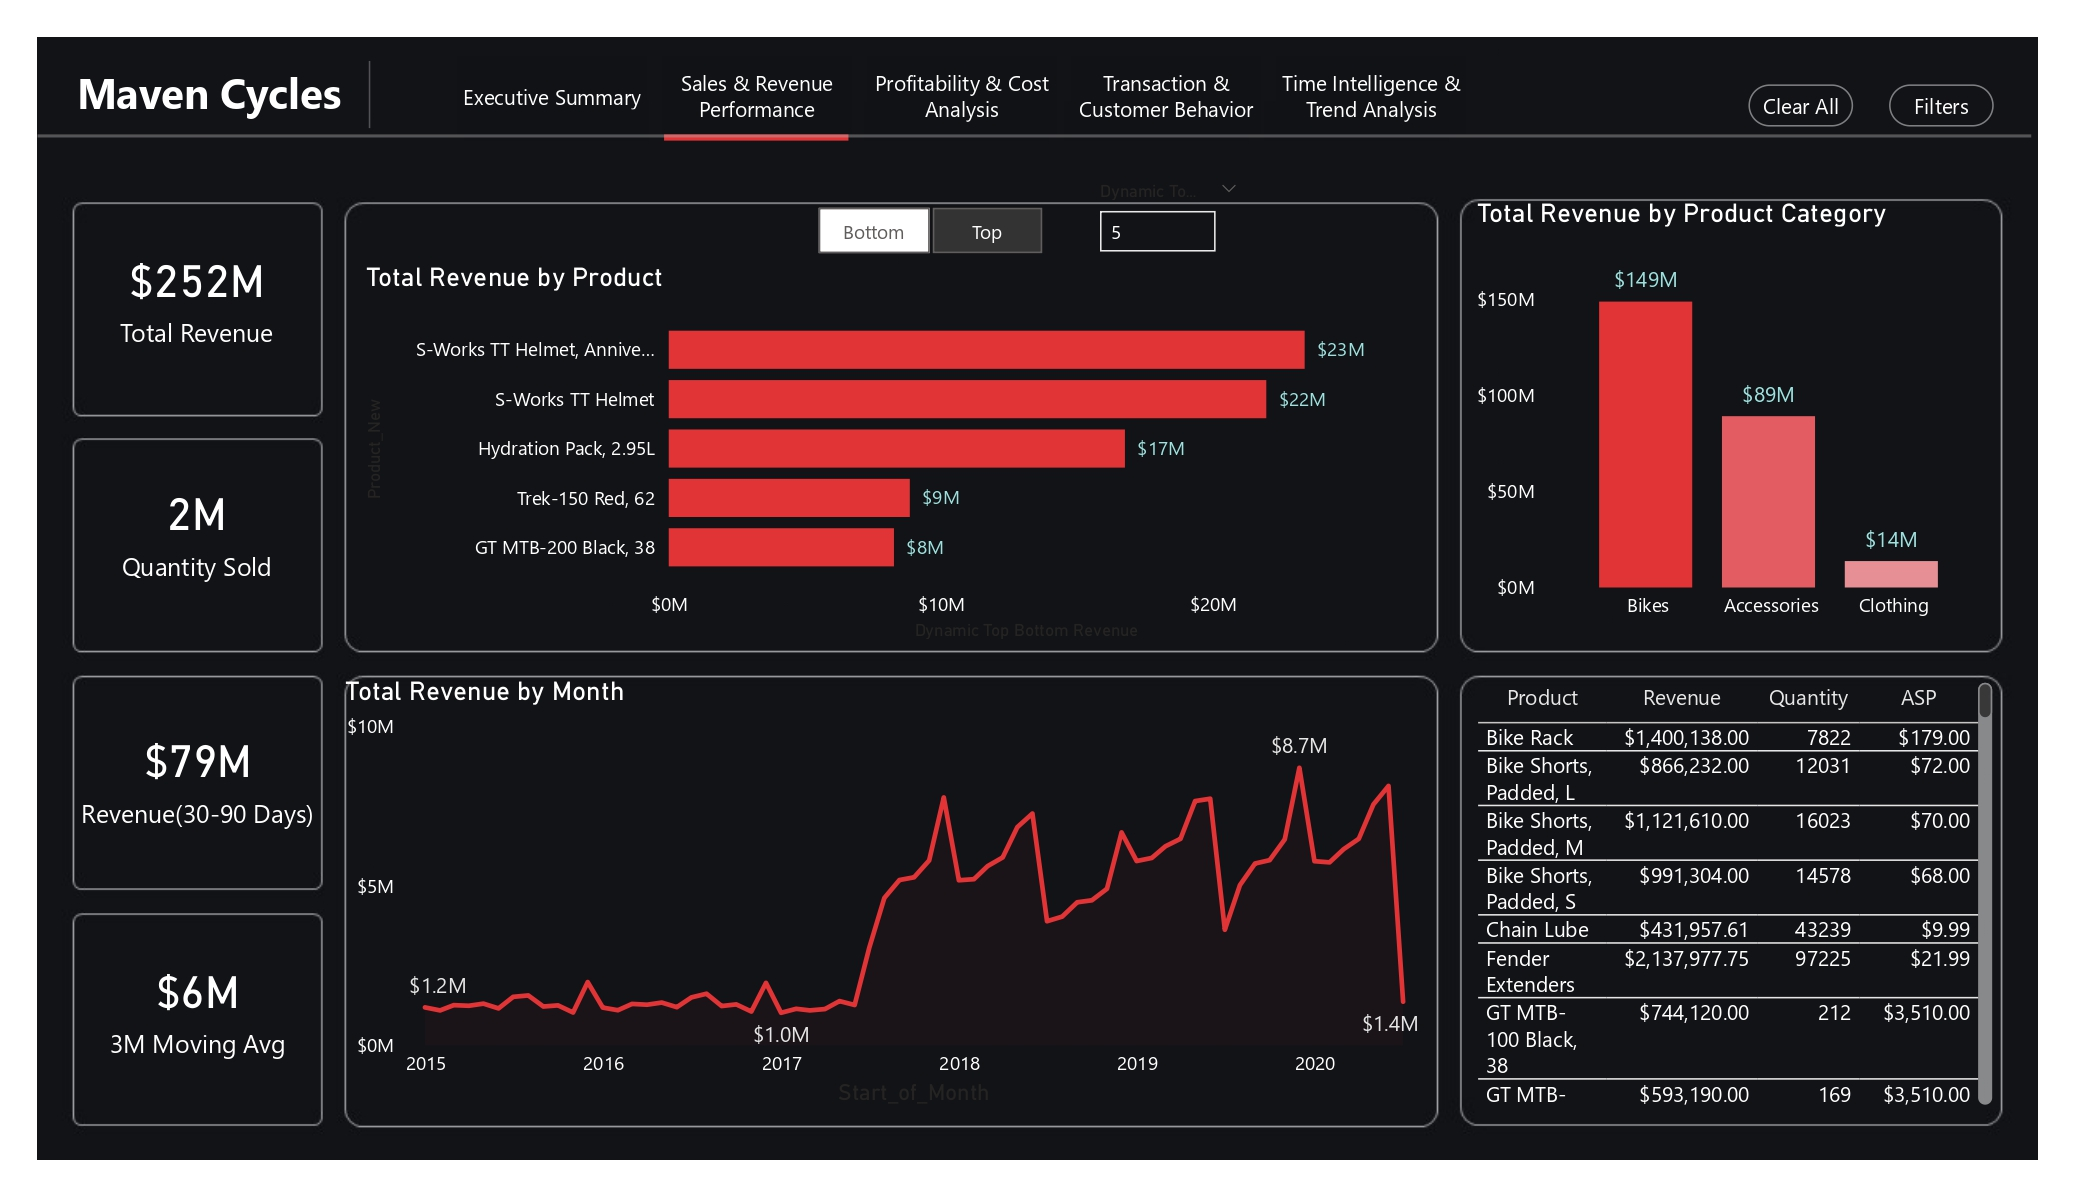

Layout of this report page (visuals, bound fields, positions):
{"tool":"powerbi","page":{"name":"Sales & Revenue Performance","canvas":[1280,720],"ordinal":1},"visuals":[{"type":"actionButton","box":[21.4,4.3,201.2,61.4],"z":0},{"type":"pageNavigator","box":[272.7,41.4,630,25],"z":0,"group":"g1"},{"type":"pageNavigator","box":[268.7,12.4,646,50.4],"z":1000,"group":"g1"},{"type":"shape","box":[191,14.9,43.3,43.3],"z":1000},{"type":"card","title":"Total Revenue","fields":{"Values":["Measure_Table.Total Revenue"]},"box":[23.2,96.5,157.3,135.9],"z":2000},{"type":"card","title":"Total Quantity Sold","fields":{"Values":["Measure_Table.Quantity Sold"]},"box":[23.2,262.8,157.3,101.9],"z":3000},{"type":"card","title":"Revenue (30-90 Days)","fields":{"Values":["Measure_Table.Revenue(inventory with 30-90 Days)"]},"box":[23.2,404,159.1,135.9],"z":4000},{"type":"card","title":"3-Month Moving Avg. Revenue","fields":{"Values":["Measure_Table.3M Moving Avg (card)"]},"box":[23.2,556,159.1,126.9],"z":5000},{"type":"clusteredColumnChart","title":"Total Revenue by Product Category","fields":{"Category":["Dim_Product_Categories.ProductCategory"],"Y":["Measure_Table.Total Revenue"]},"box":[915.6,102.2,340,280],"z":6000},{"type":"lineChart","title":"Total Revenue by Month","fields":{"Category":["DimCalendar.Start_of_Month"],"Y":["Measure_Table.Total Revenue"]},"box":[191.8,408.2,700,279.6],"z":7000},{"type":"clusteredBarChart","title":"Total Revenue by Product","fields":{"Category":["Dim_Products.Product_New"],"Y":["Measure_Table.Dynamic Top Bottom Revenue"]},"box":[205,143.3,678.3,246.7],"z":8000},{"type":"tableEx","fields":{"Values":["Dim_Products.Product_New","Measure_Table.Total Revenue","Measure_Table.Quantity Sold","Measure_Table.Average Selling Price"]},"box":[916,408,340,280],"z":9000},{"type":"group","id":"g1","title":"Group 1","box":[268.7,12.4,646,54],"z":10000},{"type":"slicer","fields":{"Values":["TopBottomSwitch.Type"]},"box":[473.9,102.3,193.2,43.2],"z":11000},{"type":"actionButton","box":[1184.6,29.9,67.2,26.9],"z":12000},{"type":"actionButton","box":[1095,29.9,67.2,26.9],"z":13000},{"type":"slicer","fields":{"Values":["Dynamic Top/Bottom.Dynamic Top/Bottom"]},"box":[666.7,86.7,113.3,80],"z":15000},{"type":"shape","box":[0,56.4,1275.5,13.8],"z":15001}]}

Visuals, with their boxes on the page's 1280x720 design canvas (x1, y1, x2, y2). These are canvas units, not pixel positions in the 2075x1200 screenshot, which may show the page scaled, cropped or inside an application window:
actionButton: box=[21, 4, 223, 66]
pageNavigator: box=[273, 41, 903, 66]
pageNavigator: box=[269, 12, 915, 63]
shape: box=[191, 15, 234, 58]
"Total Revenue" card: box=[23, 96, 180, 232]
"Total Quantity Sold" card: box=[23, 263, 180, 365]
"Revenue (30-90 Days)" card: box=[23, 404, 182, 540]
"3-Month Moving Avg. Revenue" card: box=[23, 556, 182, 683]
"Total Revenue by Product Category" clusteredColumnChart: box=[916, 102, 1256, 382]
"Total Revenue by Month" lineChart: box=[192, 408, 892, 688]
"Total Revenue by Product" clusteredBarChart: box=[205, 143, 883, 390]
tableEx - Dim_Products.Product_New x Measure_Table.Total Revenue: box=[916, 408, 1256, 688]
"Group 1" group: box=[269, 12, 915, 66]
slicer - TopBottomSwitch.Type: box=[474, 102, 667, 146]
actionButton: box=[1185, 30, 1252, 57]
actionButton: box=[1095, 30, 1162, 57]
slicer - Dynamic Top/Bottom.Dynamic Top/Bottom: box=[667, 87, 780, 167]
shape: box=[0, 56, 1276, 70]
